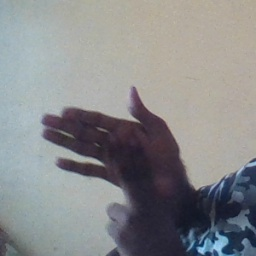N: (32, 91, 195, 241)
